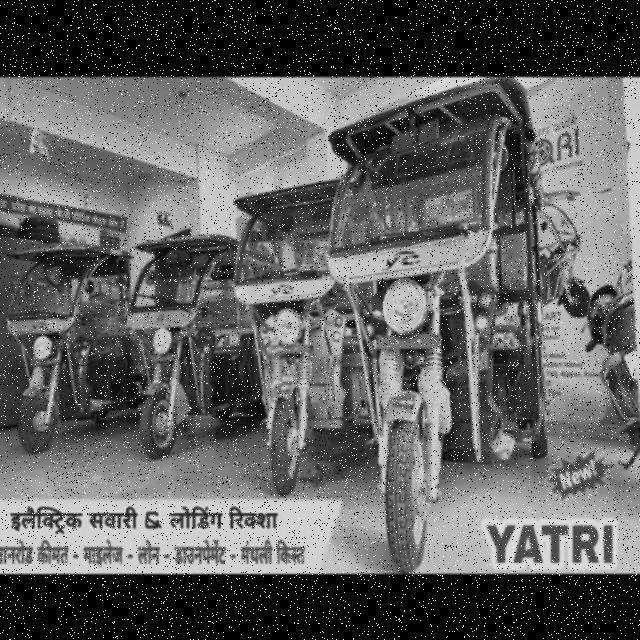Toto: (327, 65, 574, 569), (232, 178, 362, 502), (126, 219, 242, 463), (8, 230, 130, 456)
